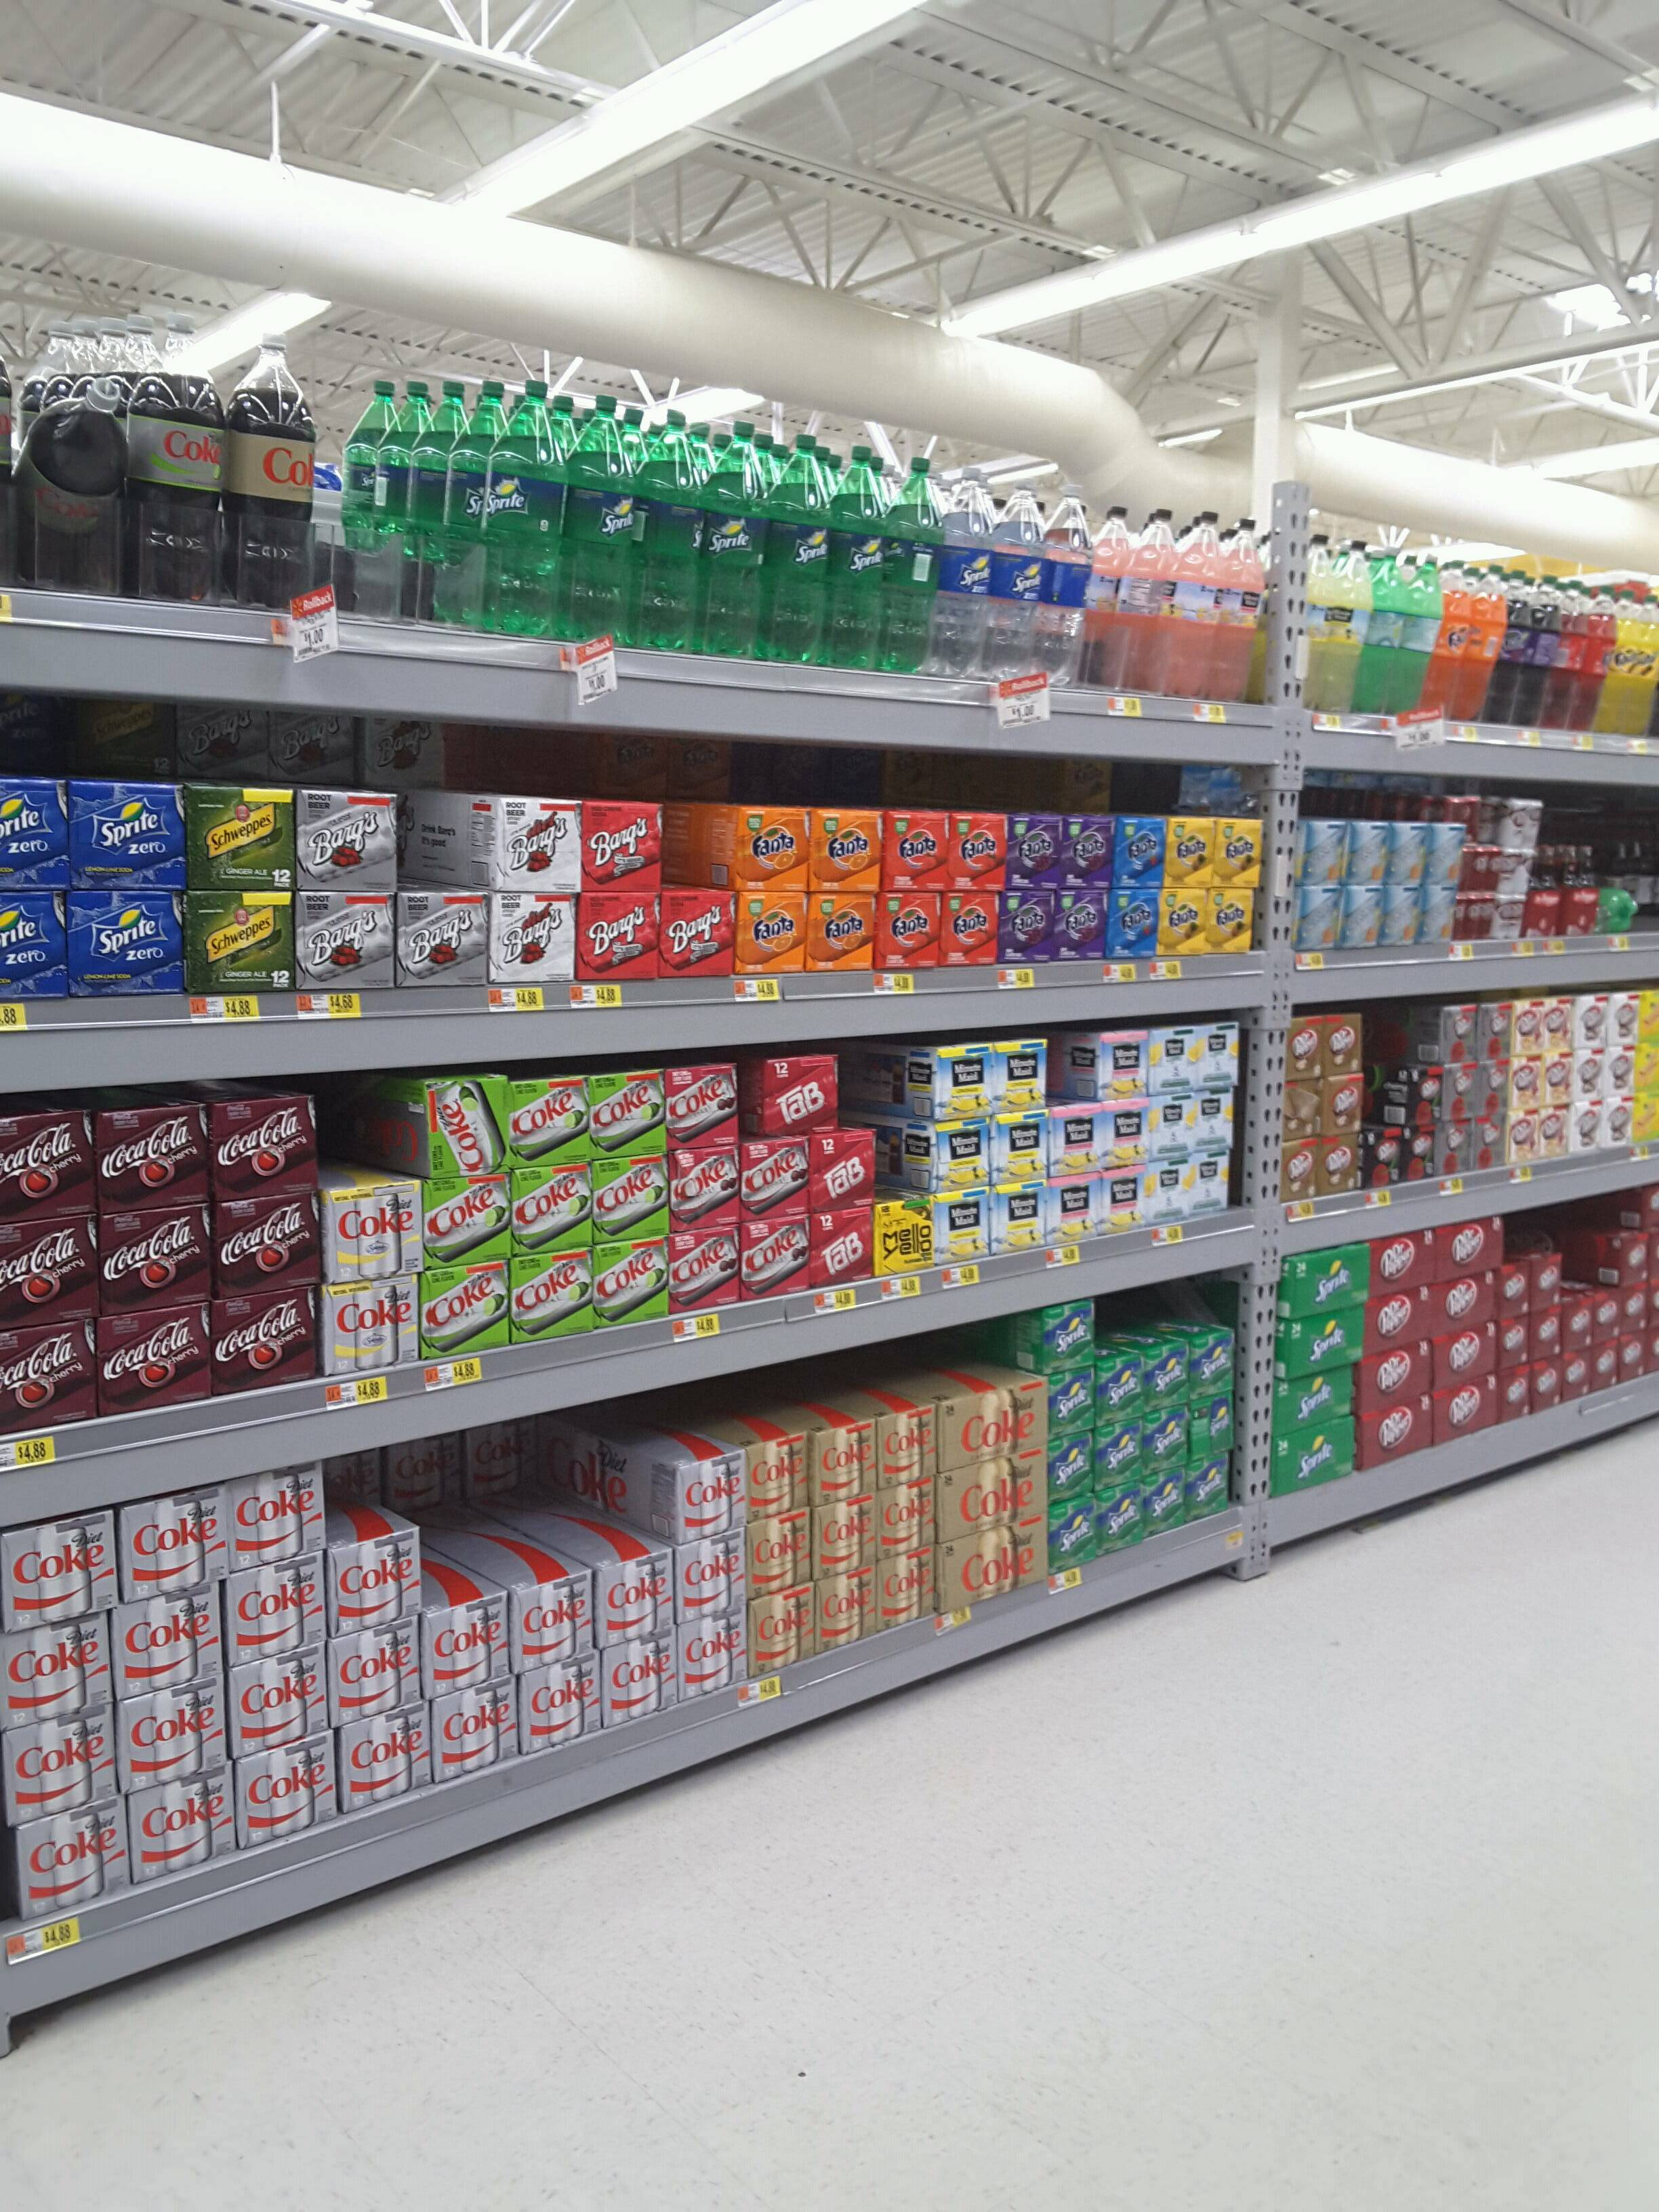Misplacement: (321, 1423, 678, 1808), (0, 693, 457, 792), (314, 1078, 434, 1388), (1044, 1035, 1114, 1252), (596, 733, 748, 806), (1046, 751, 1126, 815)
